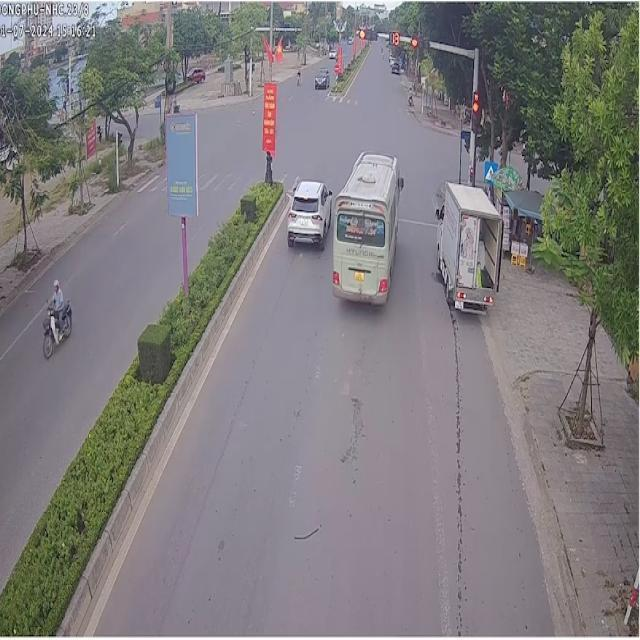car: (330, 152, 402, 302), (430, 180, 500, 311), (286, 176, 329, 247), (313, 66, 328, 88)
motobike: (40, 299, 70, 356)
red_light: (472, 88, 480, 134), (410, 35, 431, 47), (357, 27, 377, 39), (390, 31, 399, 45)
stop_line: (398, 216, 434, 225)
